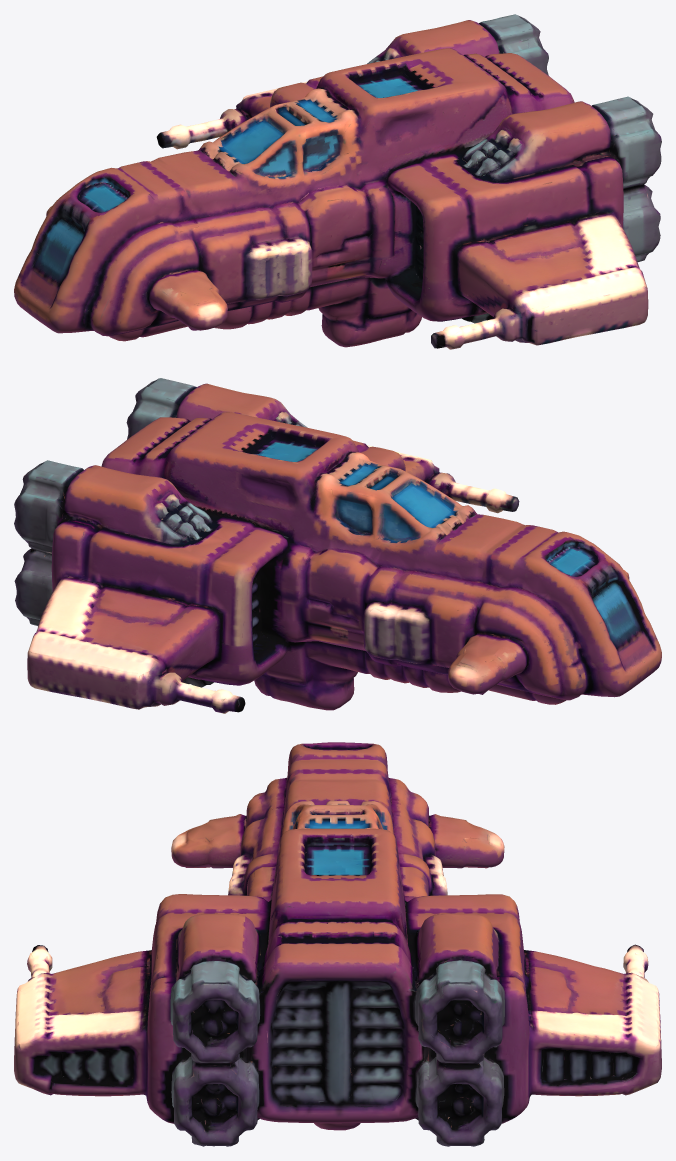
File: Vanguard.glb
3 views of the same model, one above another, from view 1: azimuth 30°, elevation 25°; view 2: azimuth 150°, elevation 25°; view 3: azimuth 270°, elevation 25° (orthographic). The views are drawn at different scales.
Parts seen in each view (by area): view 1: Mesh_0; view 2: Mesh_0; view 3: Mesh_0.
Boxes of the visible parts, x1,y1,x2,y2 form: Mesh_0: (14,14,661,349); Mesh_0: (14,378,661,713); Mesh_0: (14,742,661,1146).
Size of the model in its own units: 1.91 by 0.8214 by 1.77.
1 material, 1 textured.
